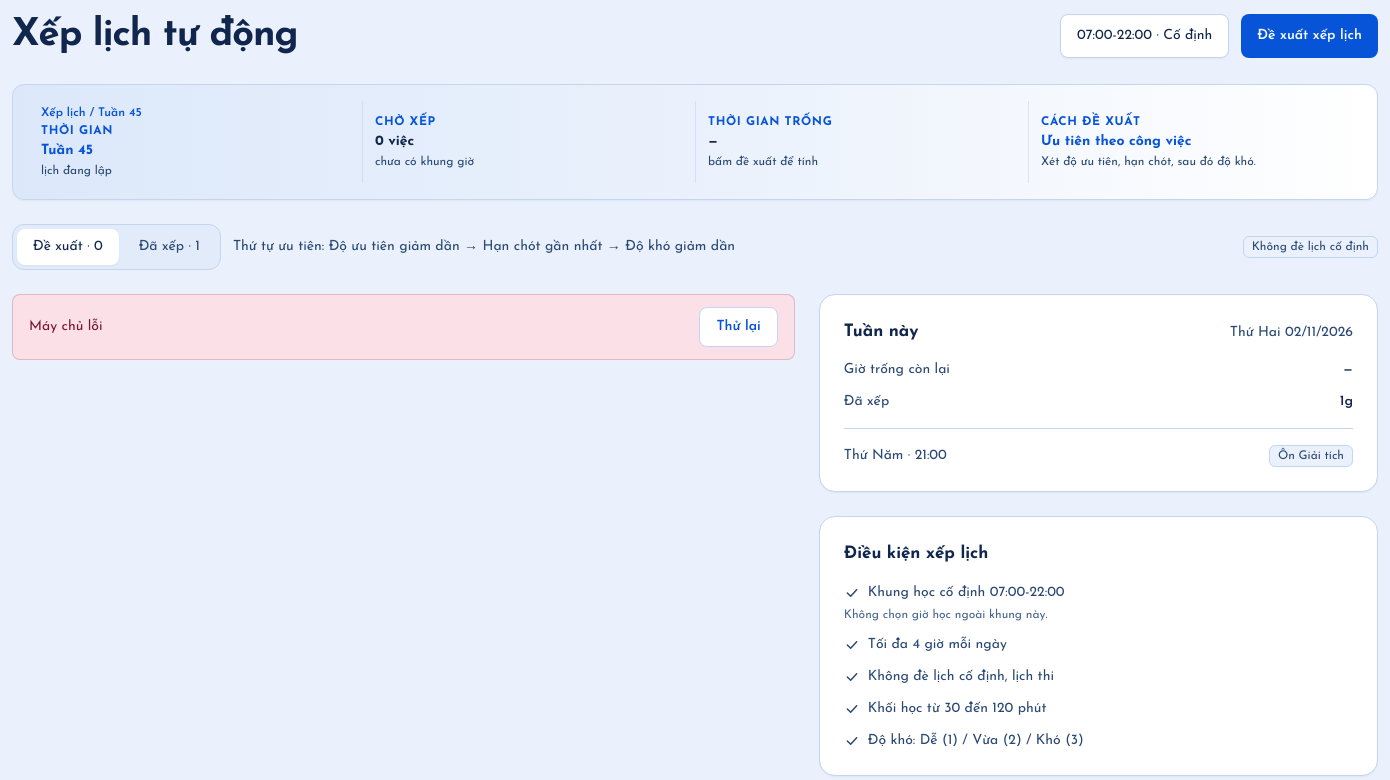
Test: SchedulerPage (TV3, Issue #146) › báo lỗi và cho thử lại khi không tải được danh sách việc
This screenshot has width=1390, height=780.
Check: the text "Máy chủ lỗi" is shown, box [29,316,102,336]
Click the button "Thử lại" at (739, 326), box [699,306,778,346]
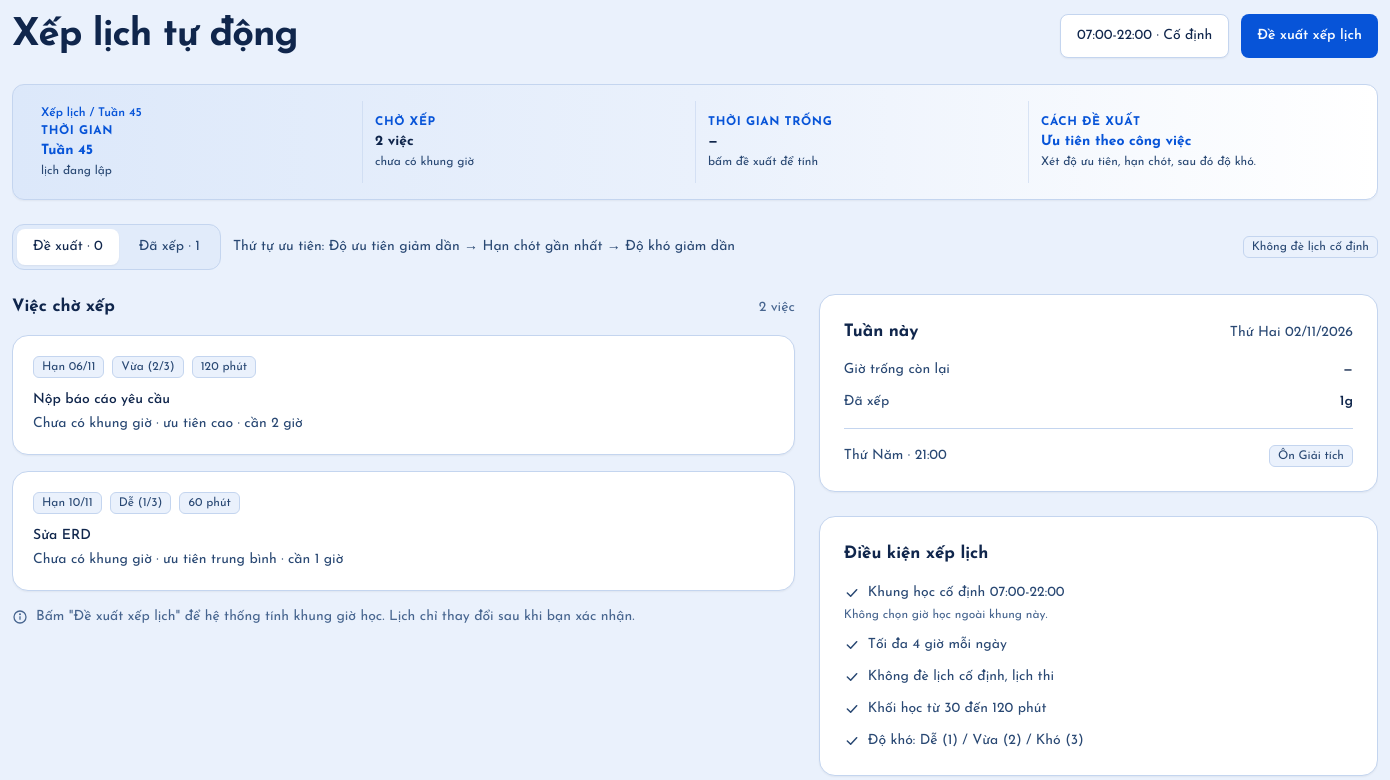
Check: the text "2 việc" in the row of "Việc chờ xếp" is shown, box [759,298,795,318]
